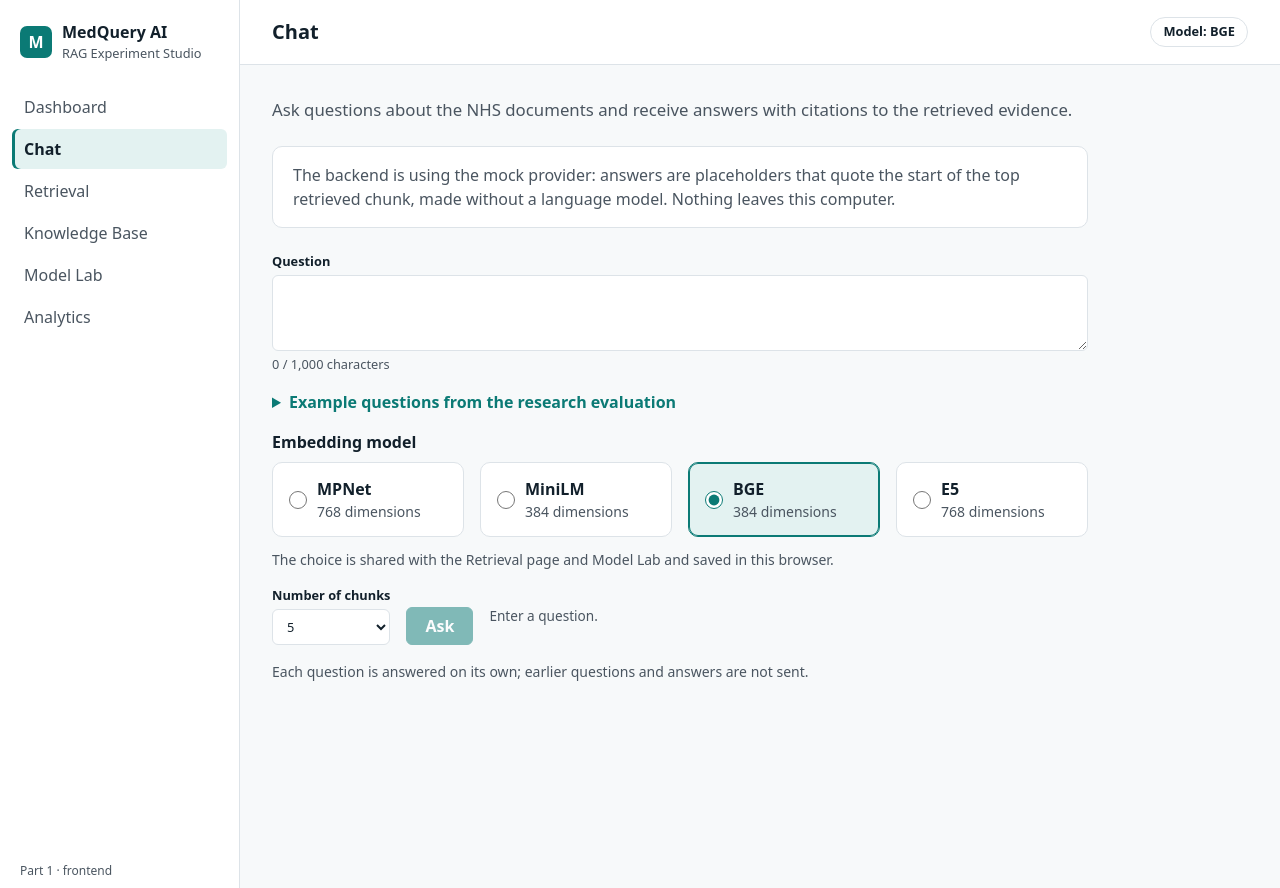
Chat: the configured language model › shows the notice if an answer comes from Claude even when the mock was configured
Type "What is asthma?" into the text box labelled "Question" at (680, 313), box [272, 275, 1088, 351]
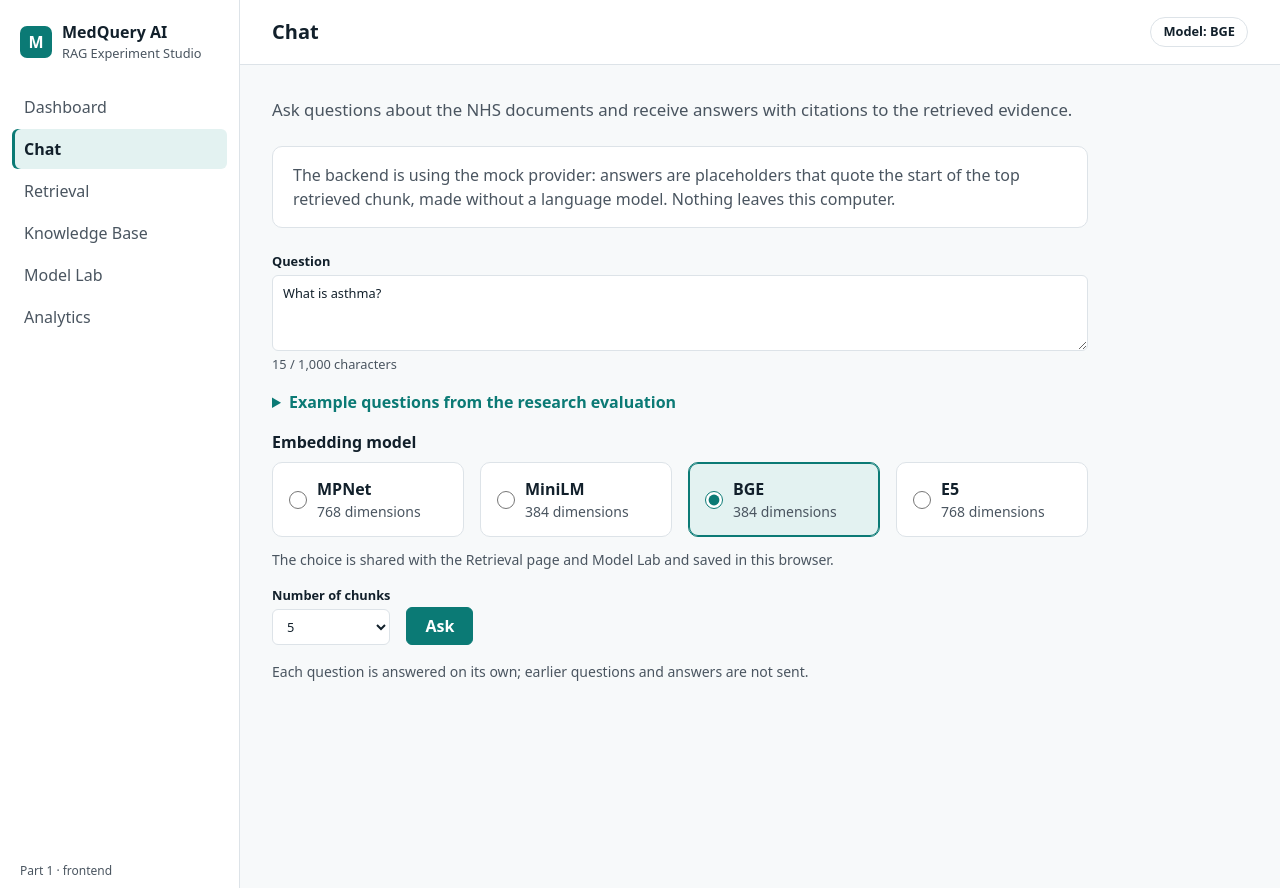
Click the button "Ask" at (440, 626), box [406, 607, 473, 645]
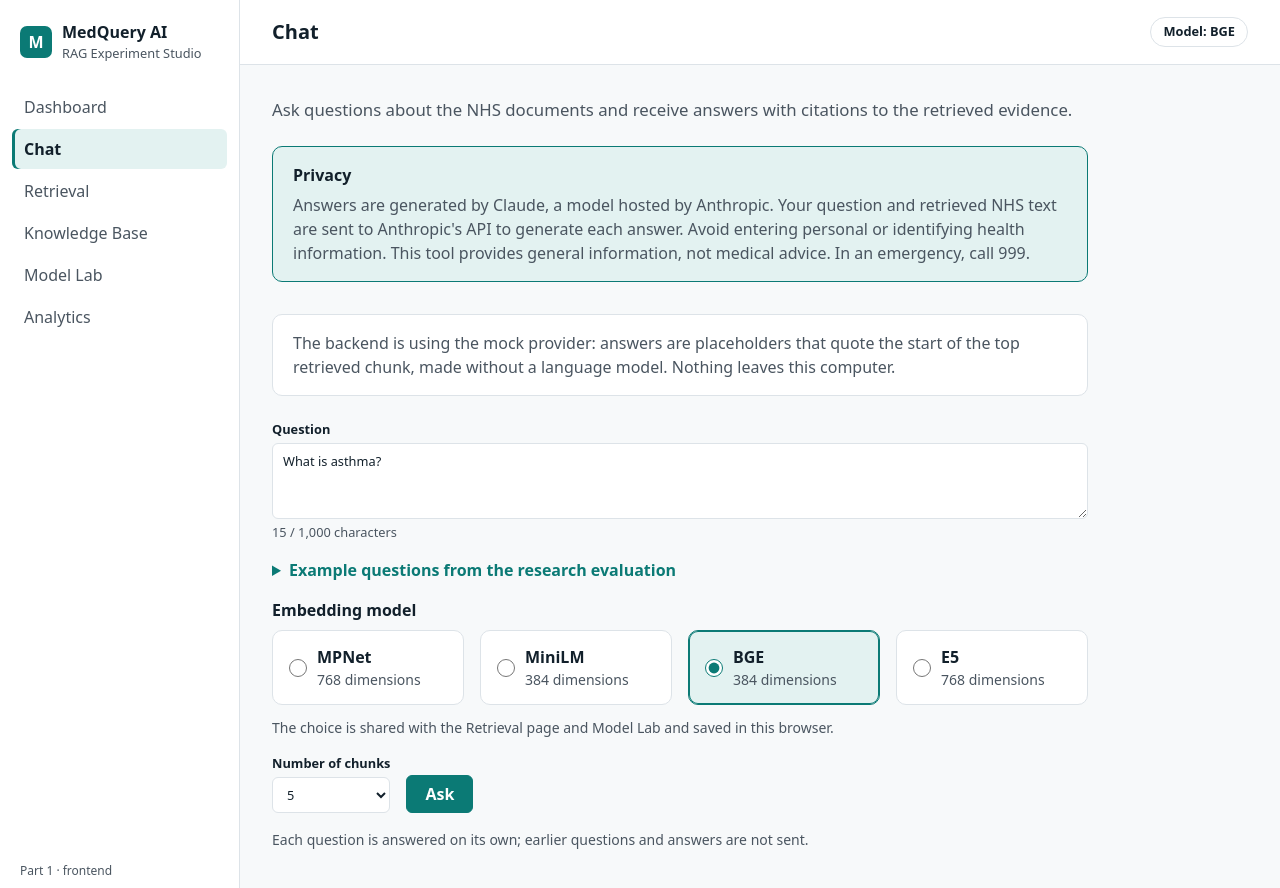
Expected: the element "Privacy" shows "Answers are generated by Claude, a model hosted by Anthropic. Your question and retrieved NHS text are sent to Anthropic's API to generate each answer. Avoid en", [293, 194, 1057, 264]
